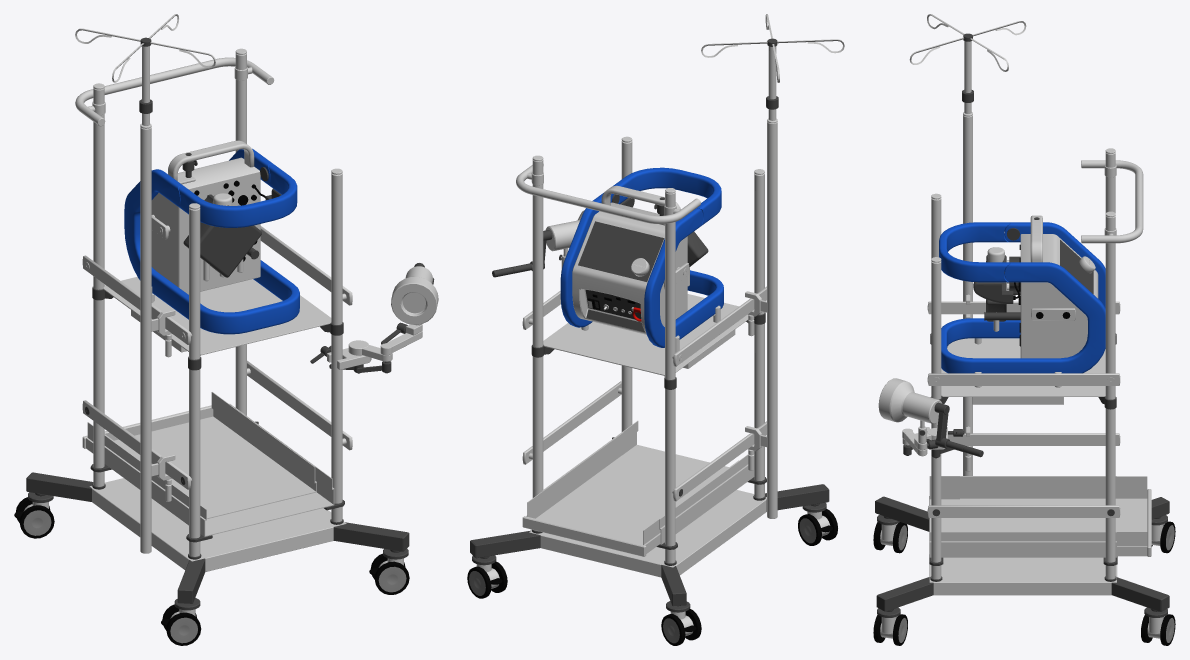
Rendered from Cardiohelp.fbx.
3 views of the same model, side by side, from view 1: azimuth 30°, elevation 25°; view 2: azimuth 150°, elevation 25°; view 3: azimuth 270°, elevation 25° (orthographic). The views are drawn at different scales.
Parts seen in each view (by area): view 1: Sprinter Cart XL, Cardiohelp Maquet; view 2: Sprinter Cart XL, Cardiohelp Maquet; view 3: Sprinter Cart XL, Cardiohelp Maquet.
Boxes of the visible parts, x1=… form: Sprinter Cart XL: x1=14, y1=14, x2=438, y2=645; Cardiohelp Maquet: x1=124, y1=140, x2=299, y2=334; Sprinter Cart XL: x1=467, y1=14, x2=844, y2=645; Cardiohelp Maquet: x1=560, y1=167, x2=723, y2=352; Sprinter Cart XL: x1=873, y1=14, x2=1175, y2=645; Cardiohelp Maquet: x1=939, y1=215, x2=1105, y2=387.
Size of the model in its own units: 91.87 by 142 by 75.25.
